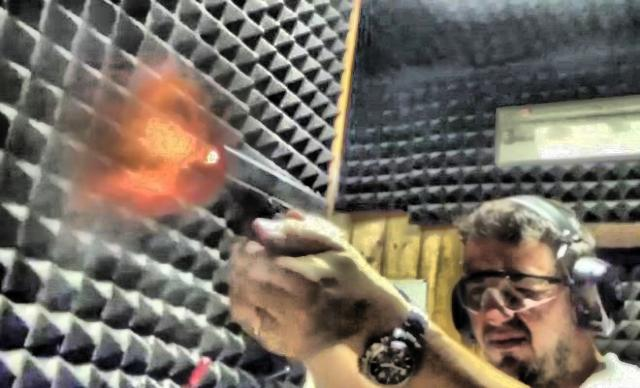pistol: (184, 135, 332, 249)
